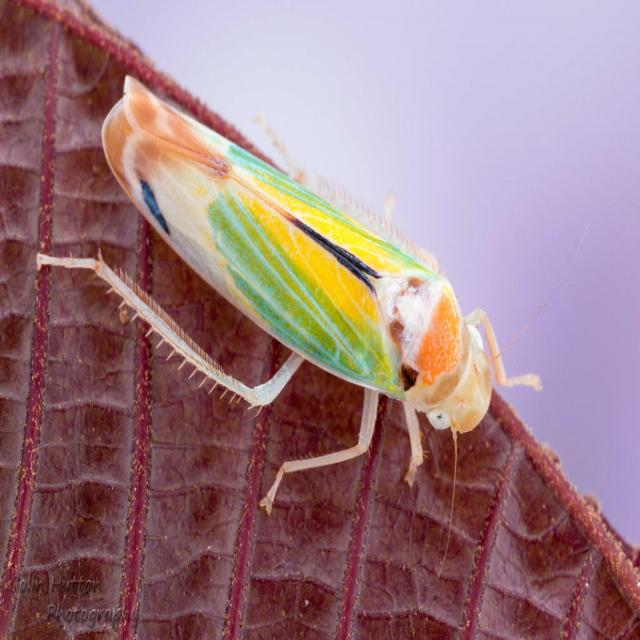Yechan: (78, 49, 494, 473)
